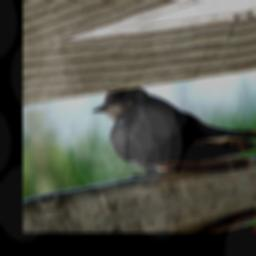Swallow: (89, 60, 256, 199)
